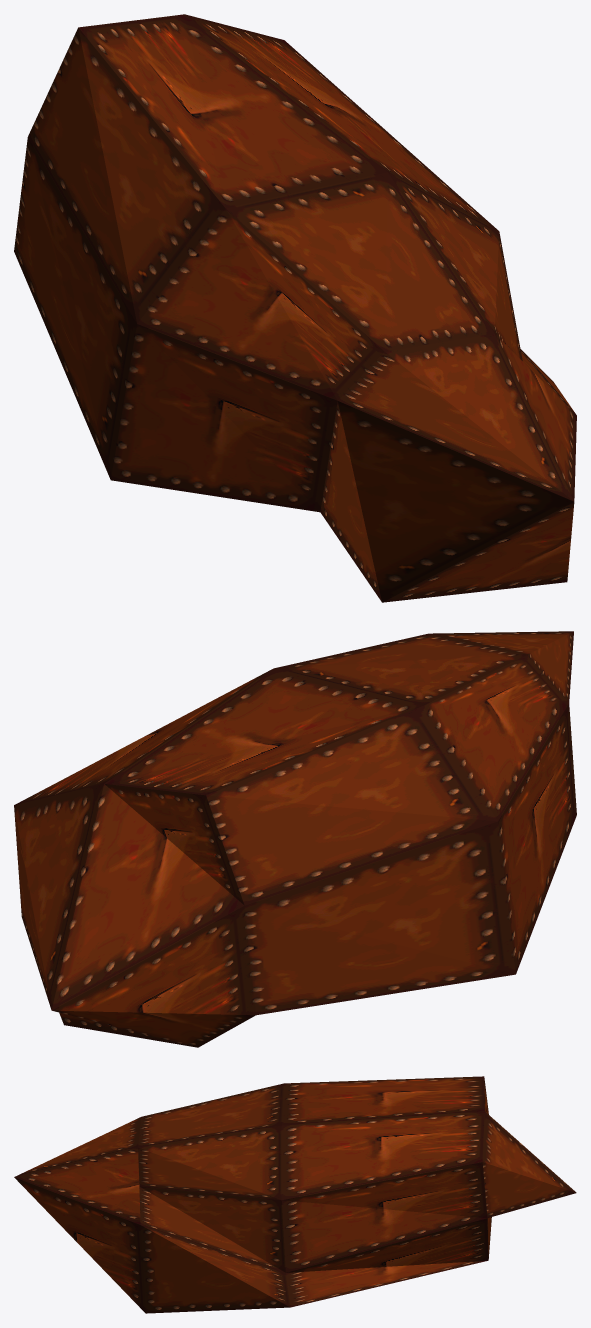
File: ZeppelinHalleTeil_Wrack_839.glb
3 renders of one model, top to bottom at view 1: azimuth 30°, elevation 25°; view 2: azimuth 150°, elevation 25°; view 3: azimuth 270°, elevation 25°, orthographic. The views are drawn at different scales.
Parts seen in each view (by area): view 1: pCubeShape20; view 2: pCubeShape20; view 3: pCubeShape20.
Boxes of the visible parts, x1,y1,x2,y2 form: pCubeShape20: (14,14,576,602); pCubeShape20: (14,631,576,1047); pCubeShape20: (14,1076,576,1313).
Size of the model in its own units: 1.69 by 1.33 by 3.52.
Materials: 1 (1 with a texture image).
